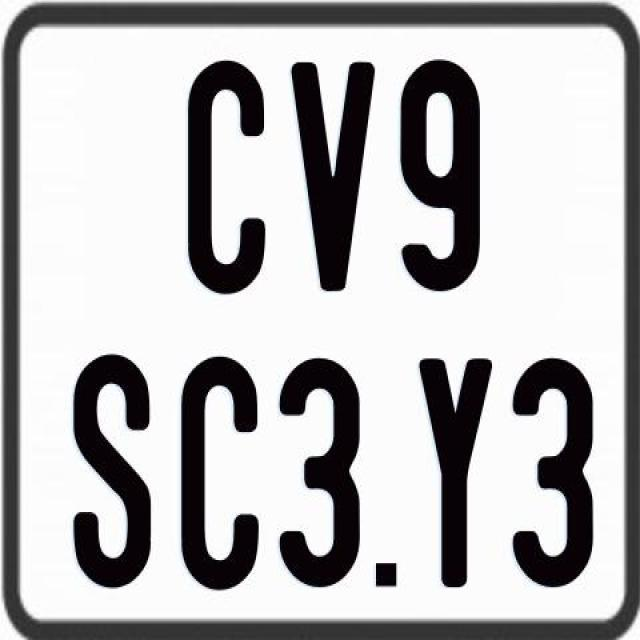3: (514, 358, 598, 597), (280, 353, 363, 582)
9: (399, 55, 482, 286)
C: (180, 357, 262, 596), (188, 59, 267, 301)
S: (70, 348, 154, 582)
V: (290, 58, 374, 294)
Y: (415, 357, 488, 586)
